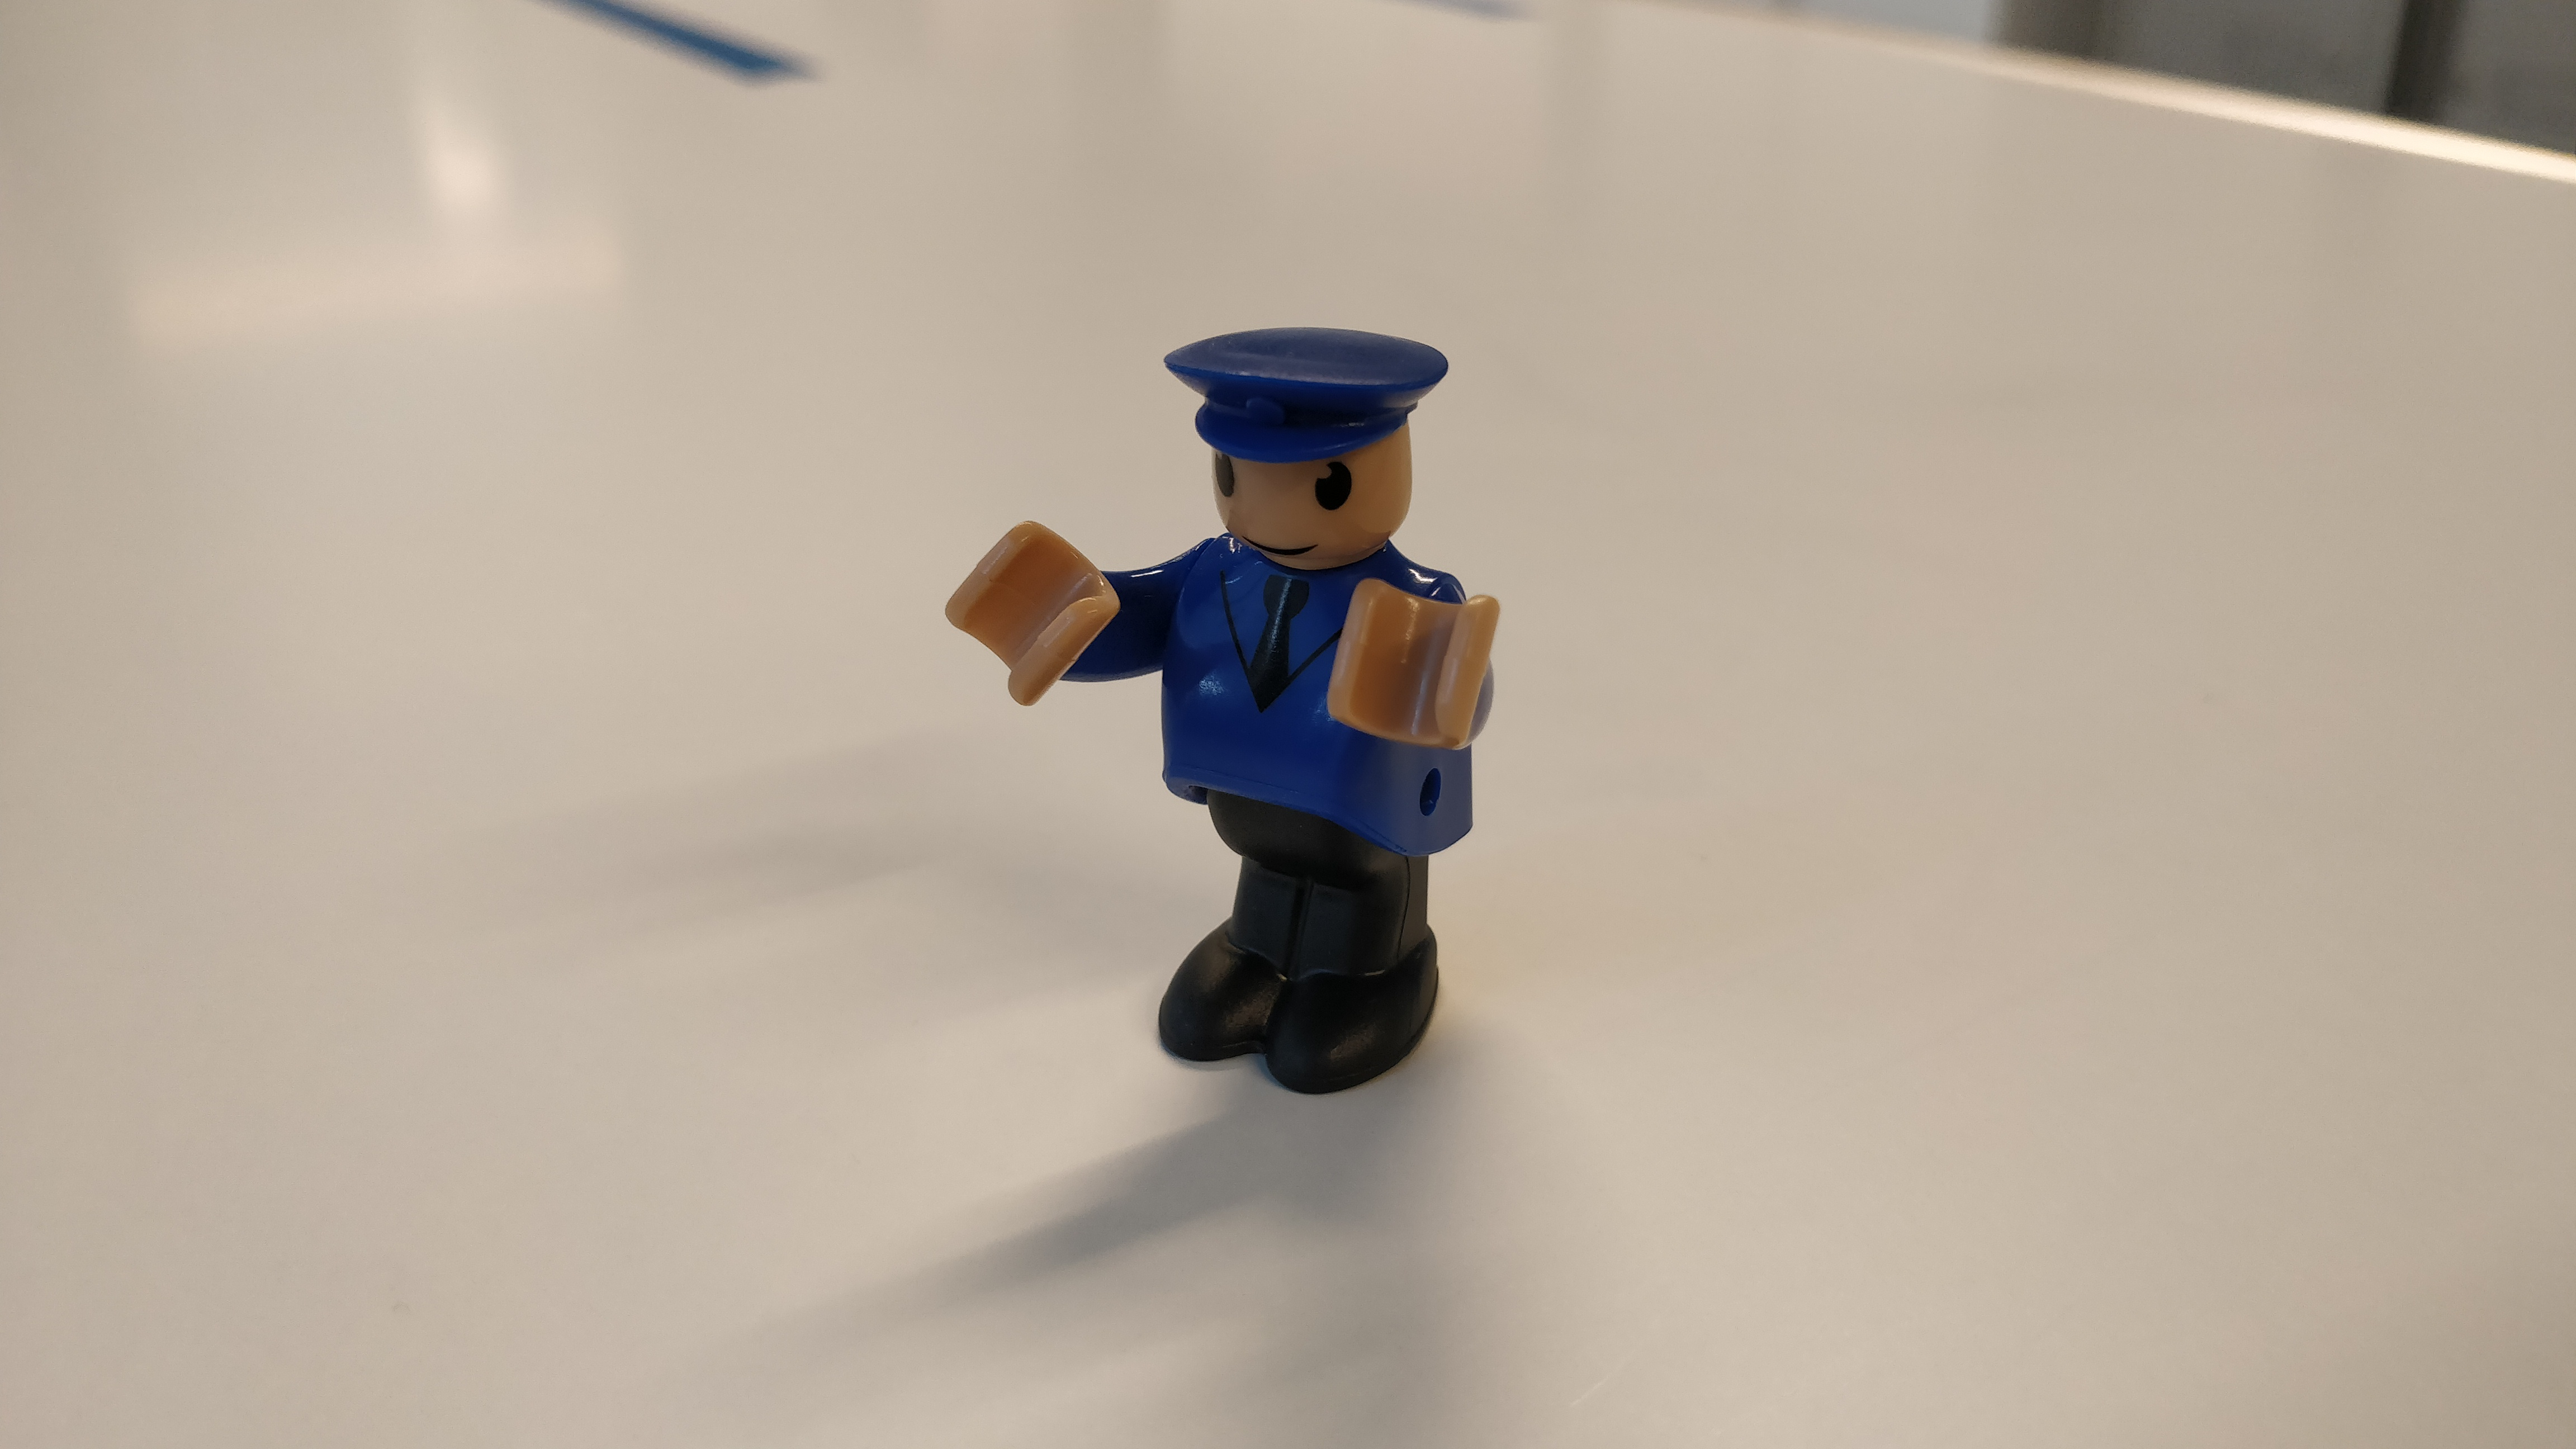Person: (926, 322, 1515, 1107)
